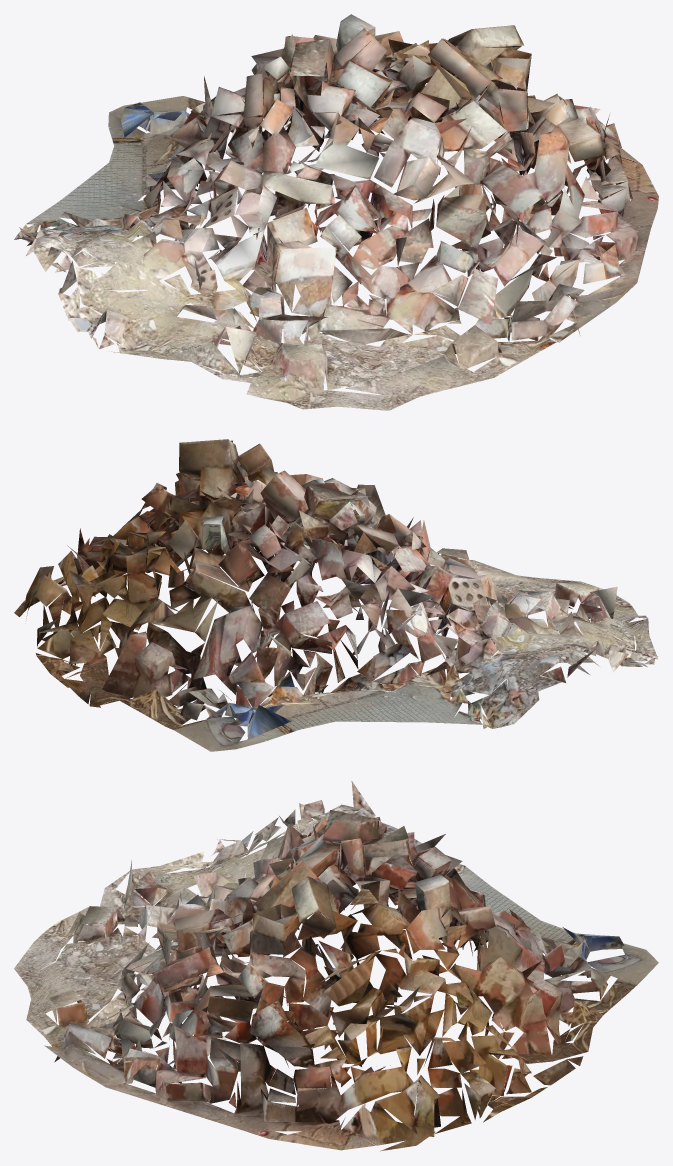
Rendered from tijolos.gltf.
3 views of the same model, one above another, from view 1: azimuth 30°, elevation 25°; view 2: azimuth 150°, elevation 25°; view 3: azimuth 270°, elevation 25° (orthographic). The views are drawn at different scales.
Visible parts, largest first — view 1: tijolos; view 2: tijolos; view 3: tijolos.
Boxes of the visible parts, x1,y1,x2,y2 form: tijolos: (14, 14, 658, 410); tijolos: (14, 439, 658, 751); tijolos: (14, 781, 658, 1151).
Bounding box in the file's own units: 2.67 × 0.9311 × 2.51.
1 material, 1 textured.
